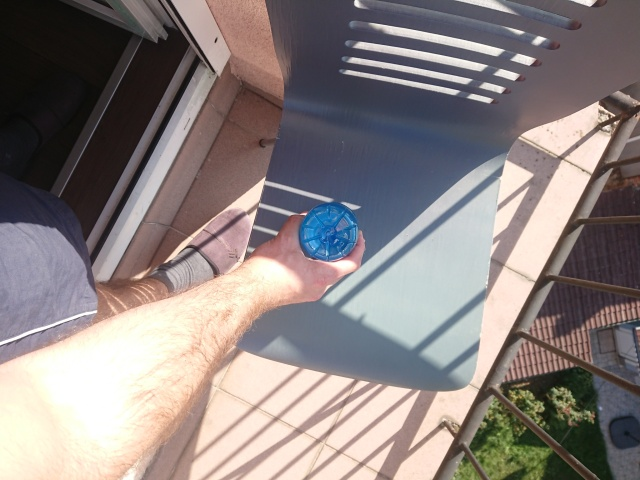Vindi Iso Sport Forest Strawberries 500mL: (295, 201, 360, 264)
